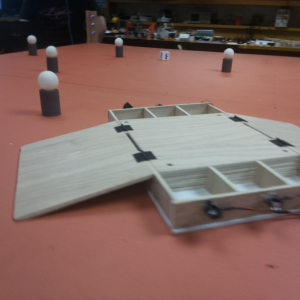blockF: (160, 49, 171, 64)
corner: (85, 10, 98, 44)
obstacle: (35, 70, 64, 118), (219, 46, 234, 74), (45, 46, 59, 73), (25, 34, 39, 54), (115, 35, 126, 58)
side: (172, 187, 300, 235)
slope: (15, 119, 152, 222)
